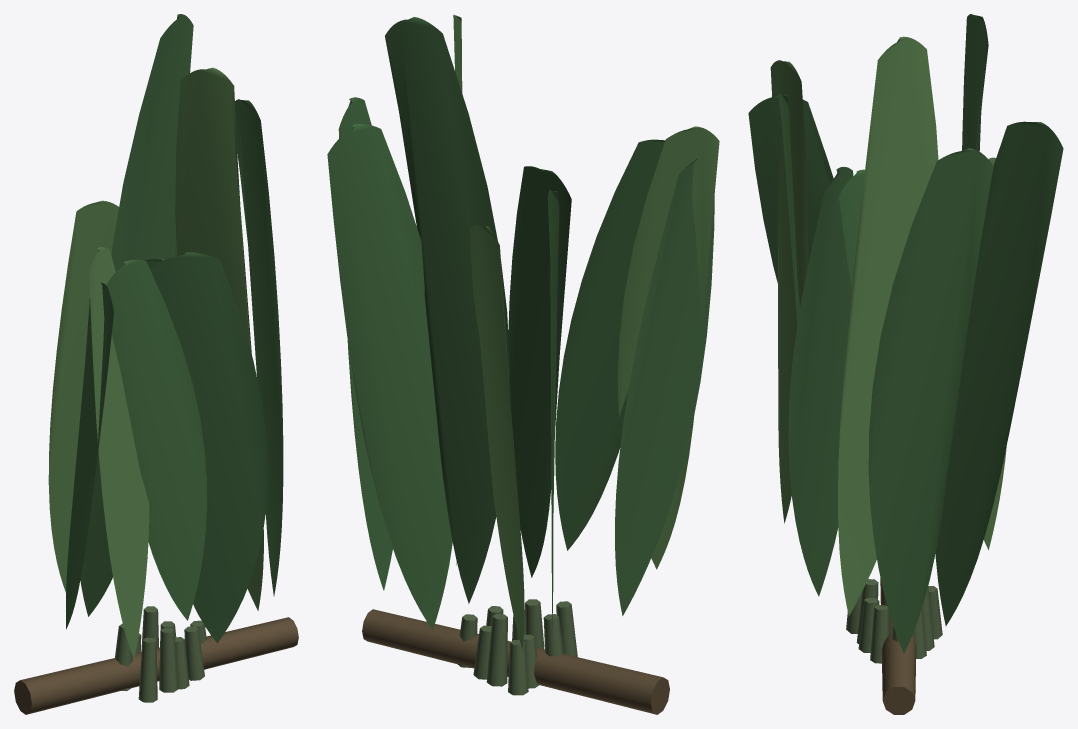
Rendered from plant-javafern-large.glb.
3 views of the same model, side by side, from view 1: azimuth 30°, elevation 25°; view 2: azimuth 150°, elevation 25°; view 3: azimuth 270°, elevation 25° (orthographic). The views are drawn at different scales.
Parts seen in each view (by area): view 1: plant-javafern-large; view 2: plant-javafern-large; view 3: plant-javafern-large.
Part boxes in pixels (left/top/right/bottom): plant-javafern-large: left=14, top=14, right=298, bottom=714; plant-javafern-large: left=327, top=14, right=719, bottom=714; plant-javafern-large: left=748, top=14, right=1063, bottom=714.
Size of the model in its own units: 0.52 by 1.15 by 0.4977.
